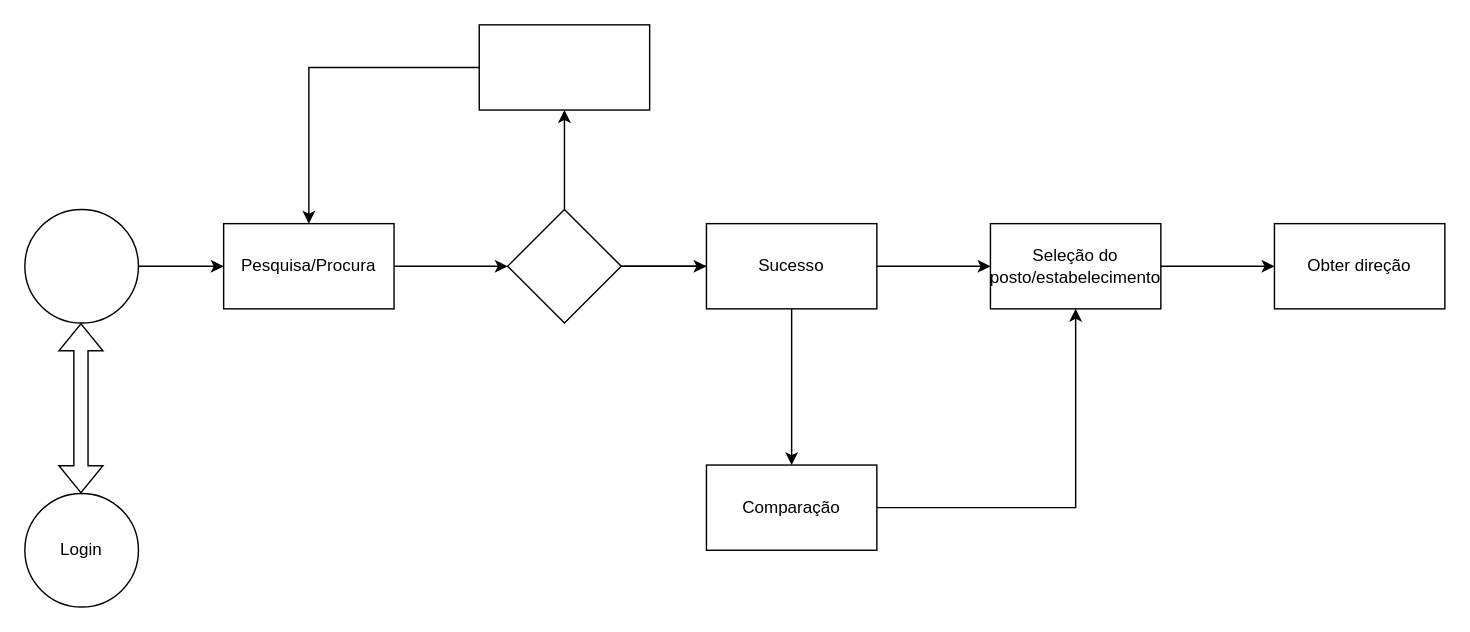
This 1470x632 diagram has some shape labels left out. Here are the shapes that lost their labels. From the top down, the box of each, then its label:
(478, 23, 650, 110): Falha (Não obteve o resultado desejado)
(23, 208, 138, 323): Início
(506, 208, 621, 323): Resultado
